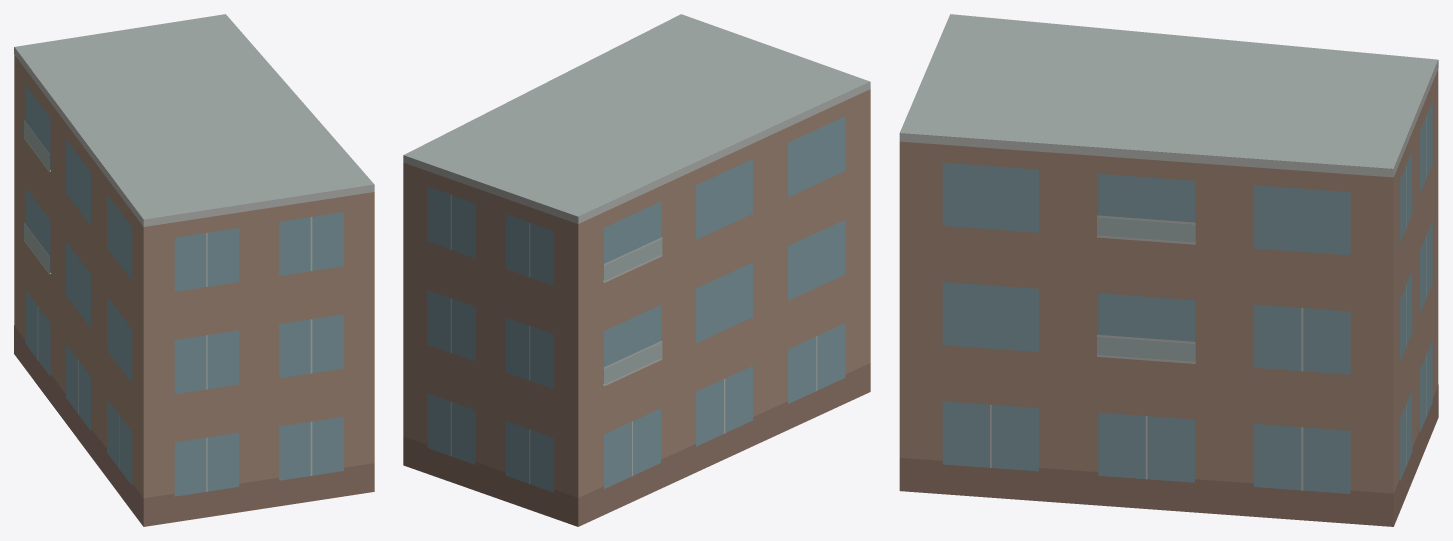
File: survey-upis-32608665.glb
3 views of the same model, side by side, from view 1: azimuth 30°, elevation 25°; view 2: azimuth 150°, elevation 25°; view 3: azimuth 270°, elevation 25° (orthographic). The views are drawn at different scales.
Visible parts, largest first — view 1: survey-upis-32608665.tmp; view 2: survey-upis-32608665.tmp; view 3: survey-upis-32608665.tmp.
Part boxes in pixels (x1,y1,x2,y2): survey-upis-32608665.tmp: [14, 14, 374, 526]; survey-upis-32608665.tmp: [403, 14, 870, 526]; survey-upis-32608665.tmp: [899, 14, 1438, 526].
Bounding box in the file's own units: 9.47 × 10.2 × 13.92.
